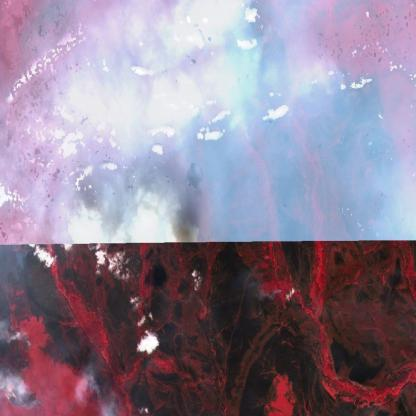fire: (187, 0, 292, 177), (85, 202, 208, 262), (0, 322, 45, 416), (90, 389, 127, 416)
